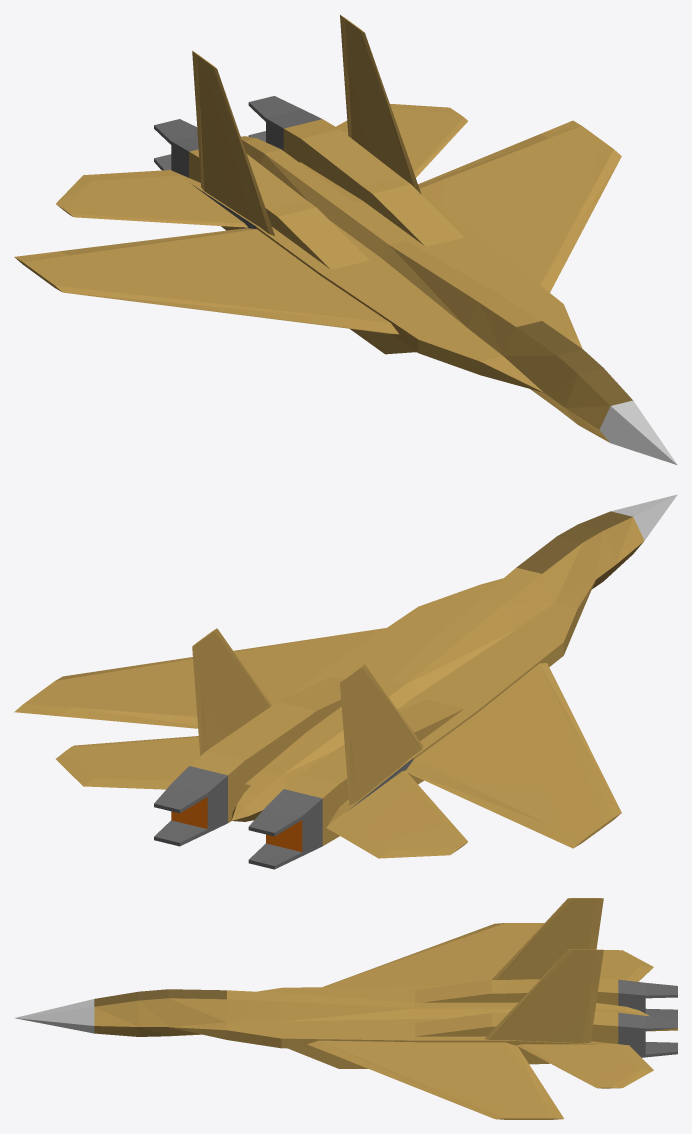
Rendered from sutype.obj.
The picture shows the model from 3 angles, top to bottom: view 1: azimuth 30°, elevation 25°; view 2: azimuth 150°, elevation 25°; view 3: azimuth 270°, elevation 25°; orthographic projection. The views are drawn at different scales.
Visible parts, largest first — view 1: Cube.002, Cube.004, Cube.006, Cube.005; view 2: Cube.002, Cube.004, Cube.005, Cube.006; view 3: Cube.002, Cube.004, Cube.006, Cube.005.
Boxes of the visible parts, x1=… form: Cube.002: x1=154, y1=96, x2=677, y2=465; Cube.004: x1=14, y1=120, x2=621, y2=334; Cube.006: x1=192, y1=15, x2=421, y2=235; Cube.005: x1=56, y1=104, x2=467, y2=227; Cube.002: x1=154, y1=494, x2=677, y2=869; Cube.004: x1=14, y1=628, x2=621, y2=848; Cube.005: x1=56, y1=736, x2=467, y2=858; Cube.006: x1=192, y1=628, x2=423, y2=805; Cube.002: x1=14, y1=978, x2=677, y2=1068; Cube.004: x1=307, y1=923, x2=563, y2=1119; Cube.006: x1=485, y1=898, x2=603, y2=1043; Cube.005: x1=517, y1=950, x2=653, y2=1088.
Bounding box in the file's own units: 2.15 × 0.6266 × 3.09.
